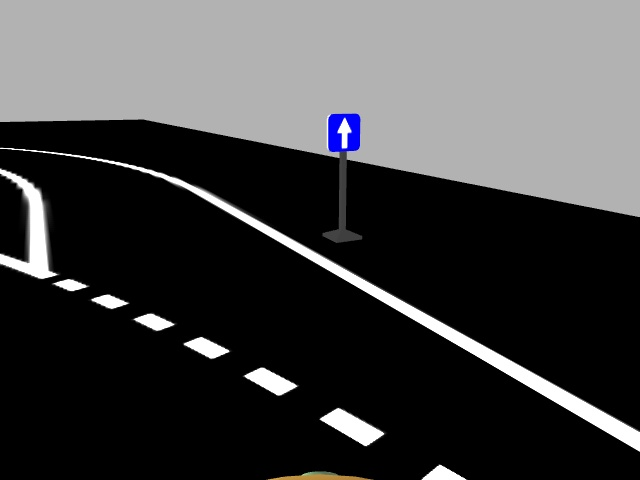OneWay: (324, 111, 362, 151)
